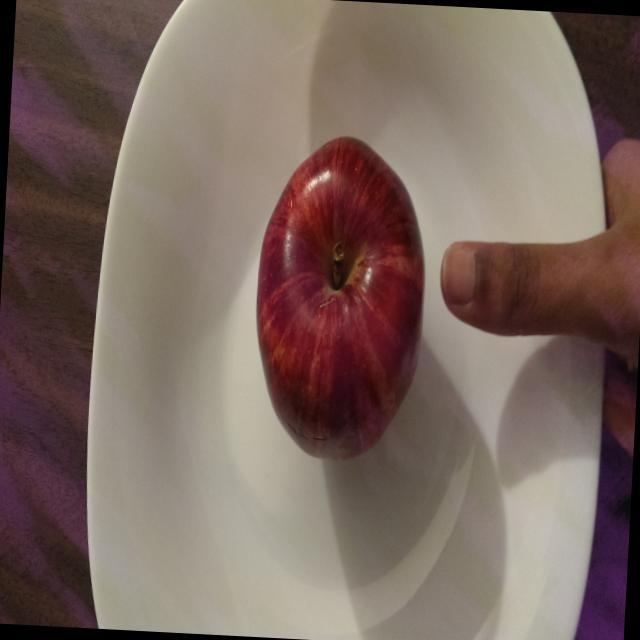Apple: (243, 128, 437, 474)
Finger: (432, 228, 564, 344)
